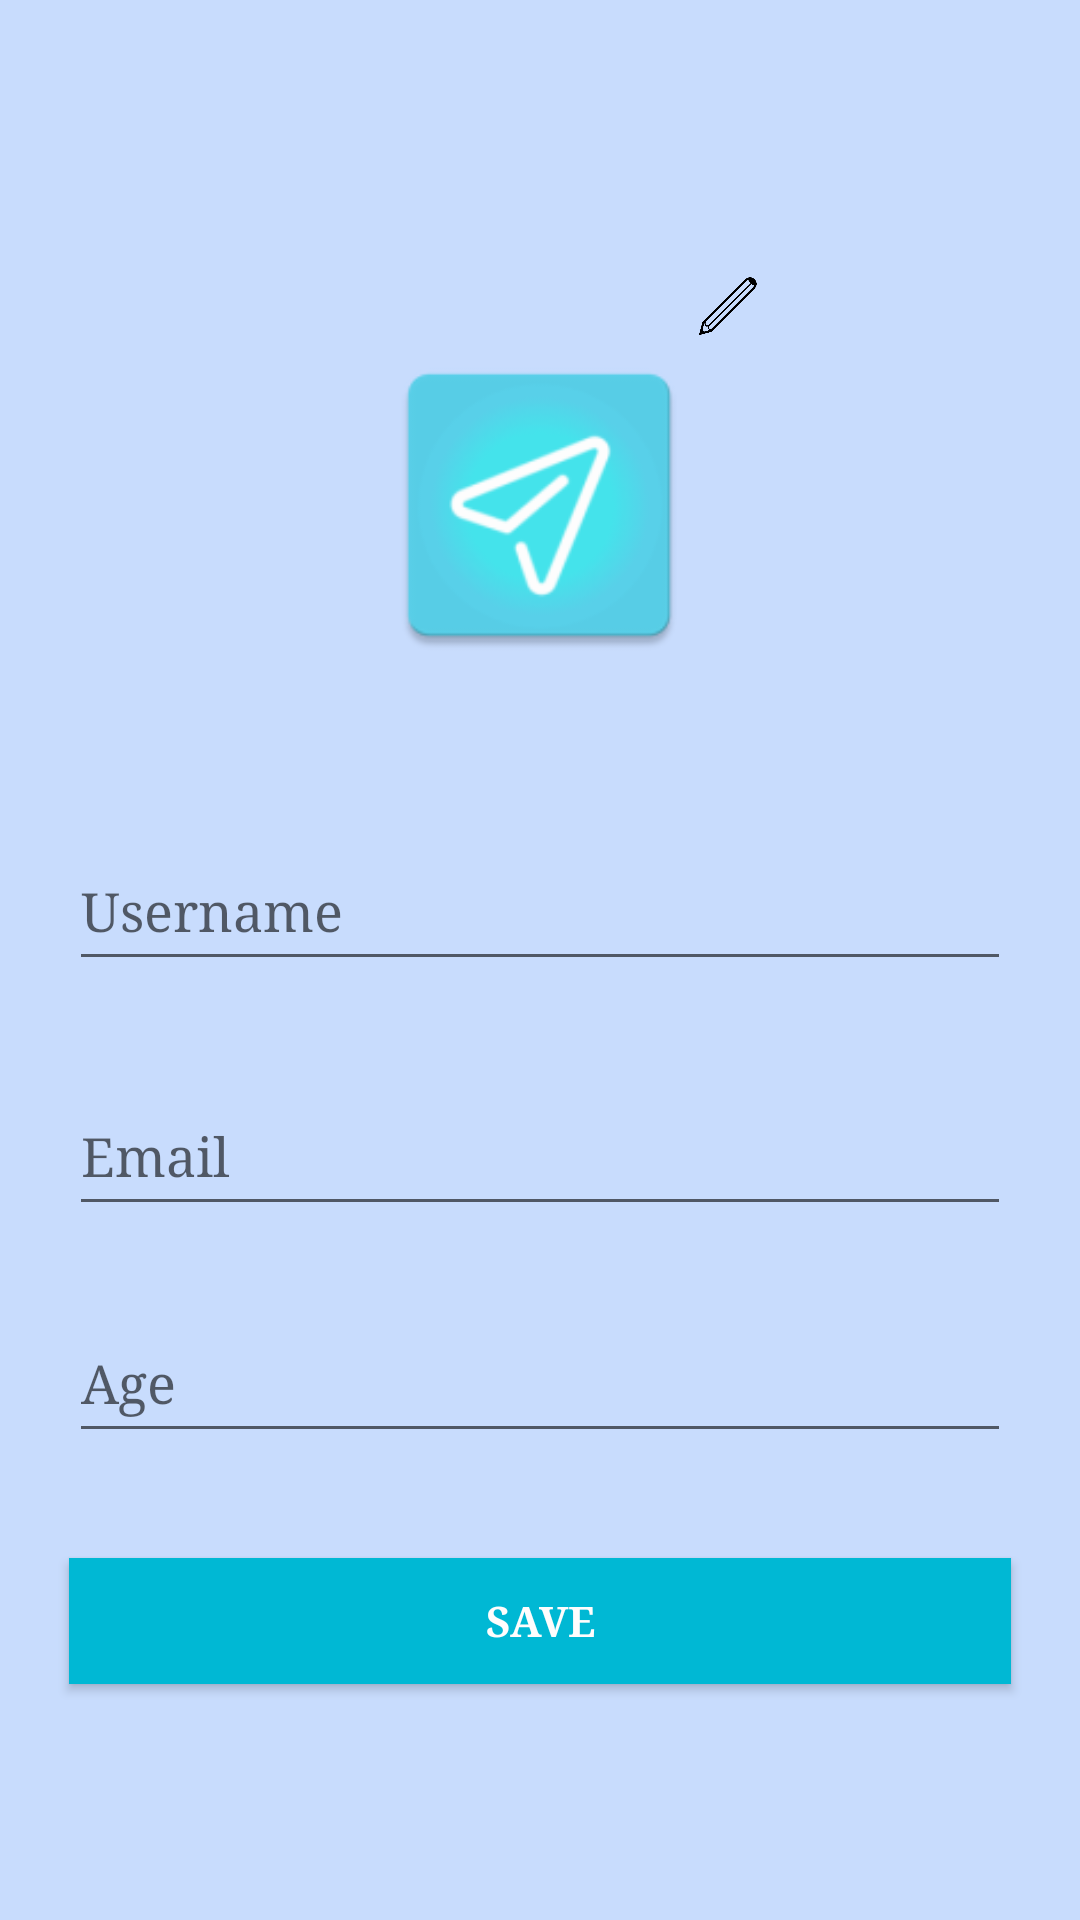

Icons on this 1080px x 1920px Android screen, each with the point to tap as (x,y):
pencil: (728,306)
